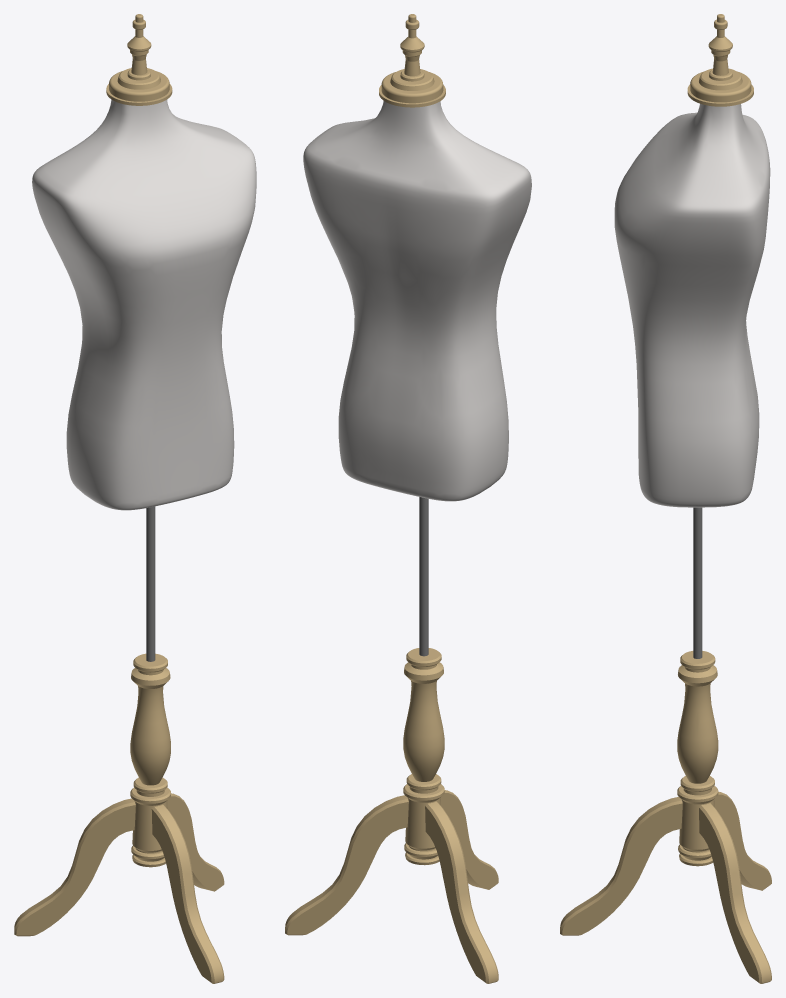
File: 946_torso.glb
3 views of the same model, side by side, from view 1: azimuth 30°, elevation 25°; view 2: azimuth 150°, elevation 25°; view 3: azimuth 270°, elevation 25° (orthographic).
Visible parts, largest first — view 1: Body; view 2: Body; view 3: Body.
Part boxes in pixels (left/top/right/bottom): Body: left=14, top=14, right=256, bottom=983; Body: left=285, top=14, right=531, bottom=983; Body: left=560, top=14, right=771, bottom=983.
Size of the model in its own units: 0.4322 by 1.8 by 0.3758.
